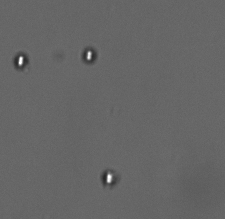Living Cell: (100, 168, 119, 187), (13, 50, 30, 70), (80, 47, 98, 64)
